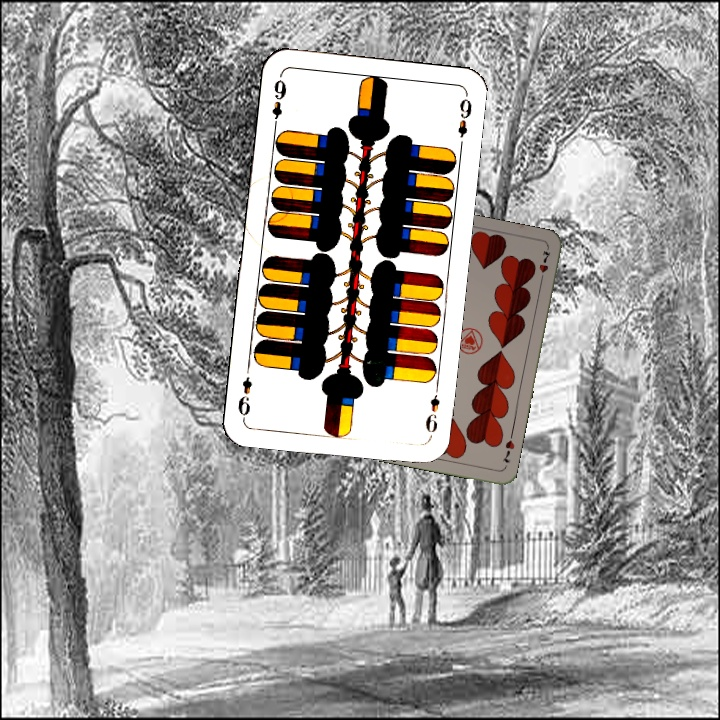E9: (421, 381, 442, 440), (268, 75, 289, 132)
H7: (498, 436, 517, 465)
